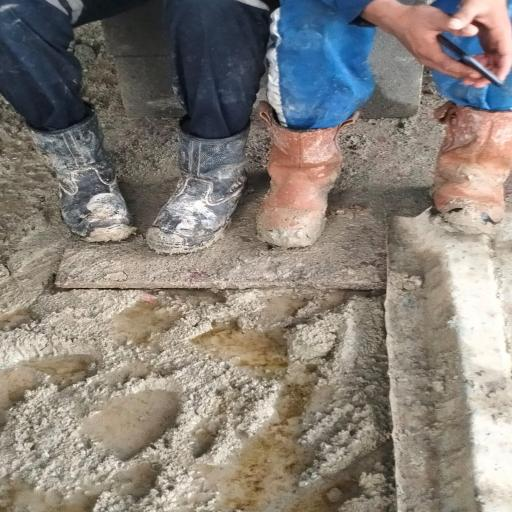safety_shoe: (144, 122, 246, 253), (28, 122, 133, 242), (260, 107, 344, 249), (430, 100, 512, 228)
